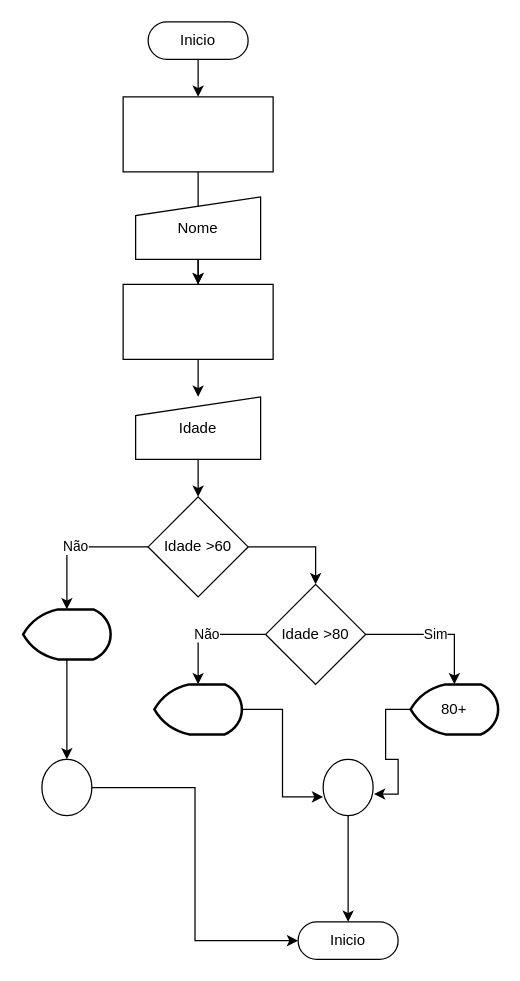
The diagram is 520 pixels wide and 981 high, and some of its shapes have lost their labels. Here are the shapes that lost their labels. From the top down, the centre of each, then its label:
(x=197, y=134): Nome como String
(x=197, y=321): Idade como inteiro
(x=66, y=634): Comum
(x=197, y=708): Prioridade
